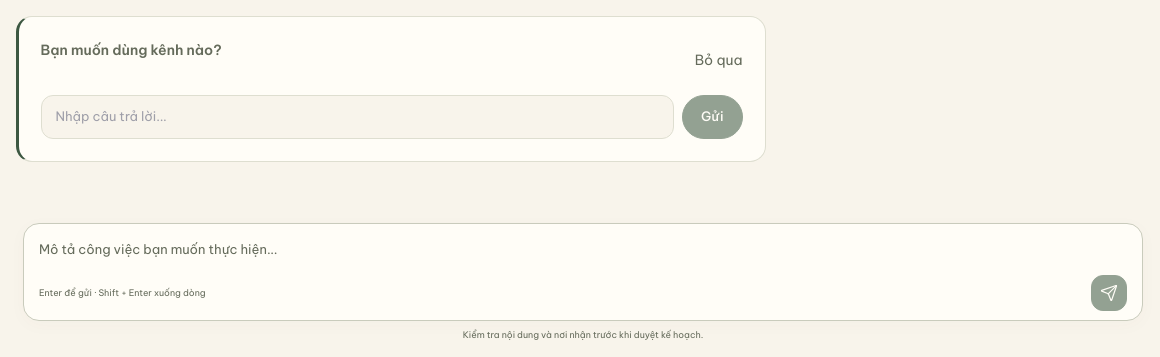
approved B interface behavior › unblocks the composer when gathering asks for clarification
In the text box labelled "Mô tả công việc bạn muốn thực hiện": (583, 255) [39,235,1127,275], type "Câu trả lời"
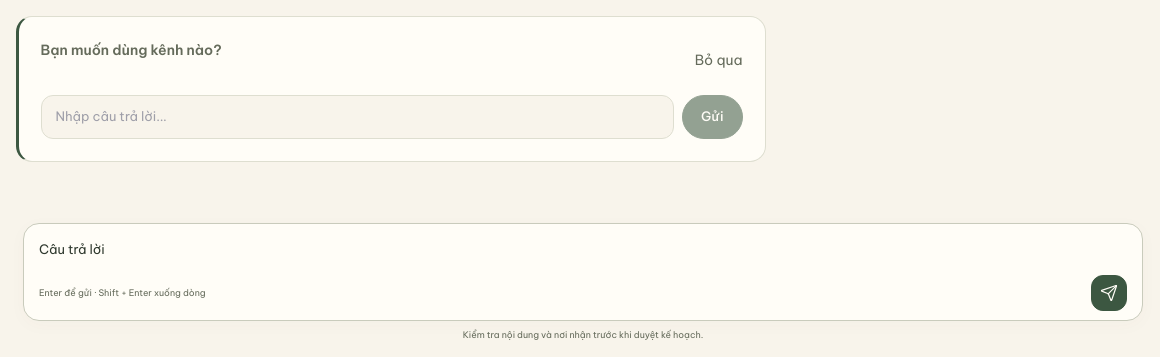
Result: the button named "Gửi" is enabled at [1091,275,1127,311]
